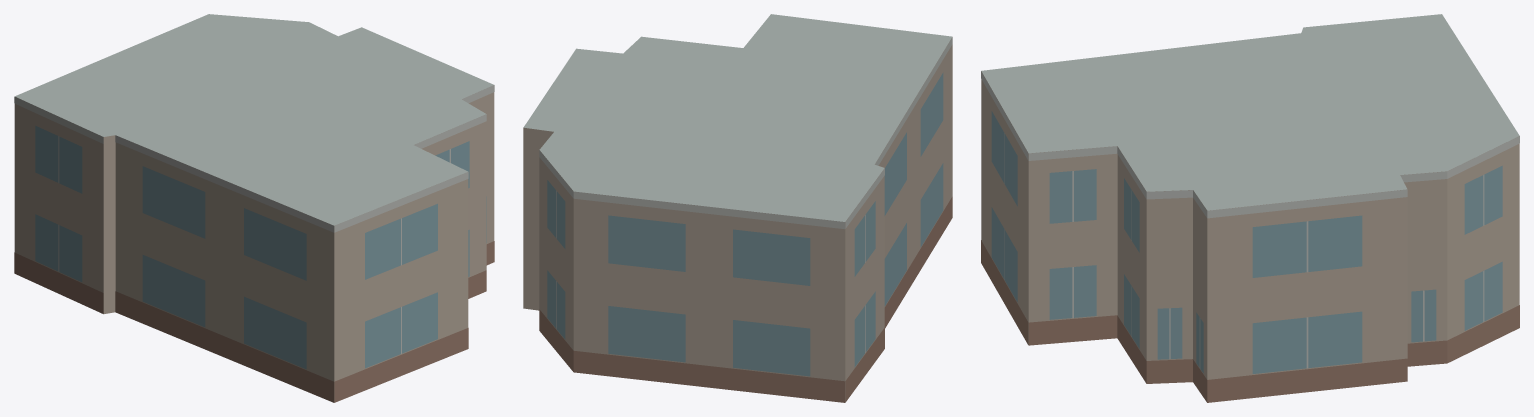
The model's file is survey-upis-32614060.glb.
3 renders of one model, left to right at view 1: azimuth 30°, elevation 25°; view 2: azimuth 150°, elevation 25°; view 3: azimuth 270°, elevation 25°, orthographic. The views are drawn at different scales.
Visible parts, largest first — view 1: survey-upis-32614060.tmp; view 2: survey-upis-32614060.tmp; view 3: survey-upis-32614060.tmp.
Part boxes in pixels (left/top/right/bottom): survey-upis-32614060.tmp: left=14, top=14, right=494, bottom=402; survey-upis-32614060.tmp: left=523, top=14, right=952, bottom=402; survey-upis-32614060.tmp: left=981, top=14, right=1519, bottom=402.
Size of the model in its own units: 13.4 by 6.1 by 15.51.
